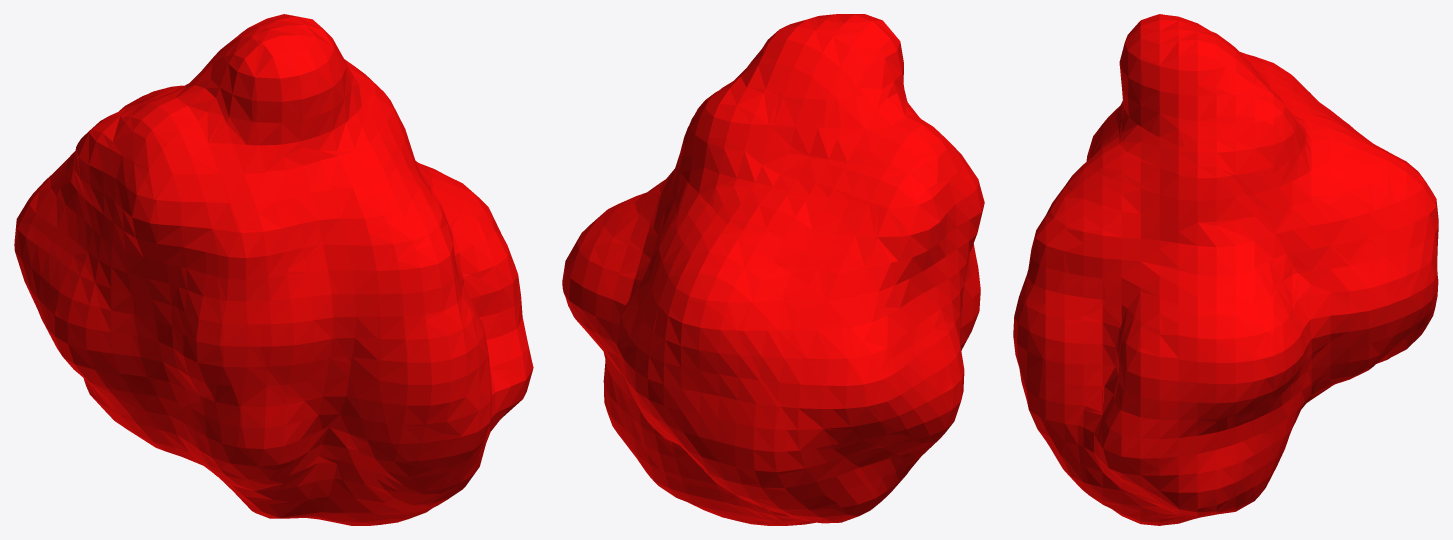
Rendered from fldA_coarse.dae.
The picture shows the model from 3 angles, left to right: view 1: azimuth 30°, elevation 25°; view 2: azimuth 150°, elevation 25°; view 3: azimuth 270°, elevation 25°; orthographic projection. The views are drawn at different scales.
Parts seen in each view (by area): view 1: fldA; view 2: fldA; view 3: fldA.
Part boxes in pixels (x1,y1,x2,y2): fldA: (14, 14, 533, 525); fldA: (562, 14, 984, 525); fldA: (1013, 14, 1438, 525).
Size of the model in its own units: 42.59 by 51.32 by 42.93.
